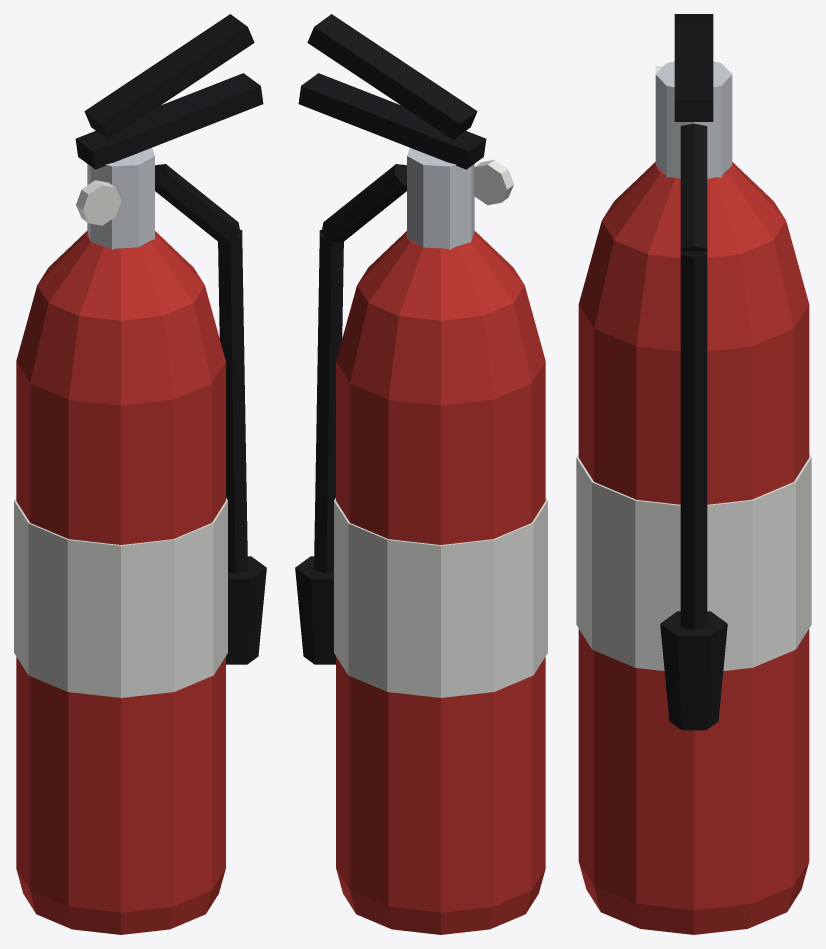
Rendered from Fire_Extinguisher.fbx.
The picture shows the model from 3 angles, left to right: view 1: azimuth 30°, elevation 25°; view 2: azimuth 150°, elevation 25°; view 3: azimuth 270°, elevation 25°; orthographic projection. The views are drawn at different scales.
Visible parts, largest first — view 1: Fire_Extinguisher; view 2: Fire_Extinguisher; view 3: Fire_Extinguisher.
Boxes of the visible parts, <box> form: Fire_Extinguisher: <box>14,14,266,934</box>; Fire_Extinguisher: <box>295,14,547,934</box>; Fire_Extinguisher: <box>576,14,811,934</box>.
Size of the model in its own units: 0.1906 by 0.6663 by 0.153.
Materials: 1 (1 with a texture image).
